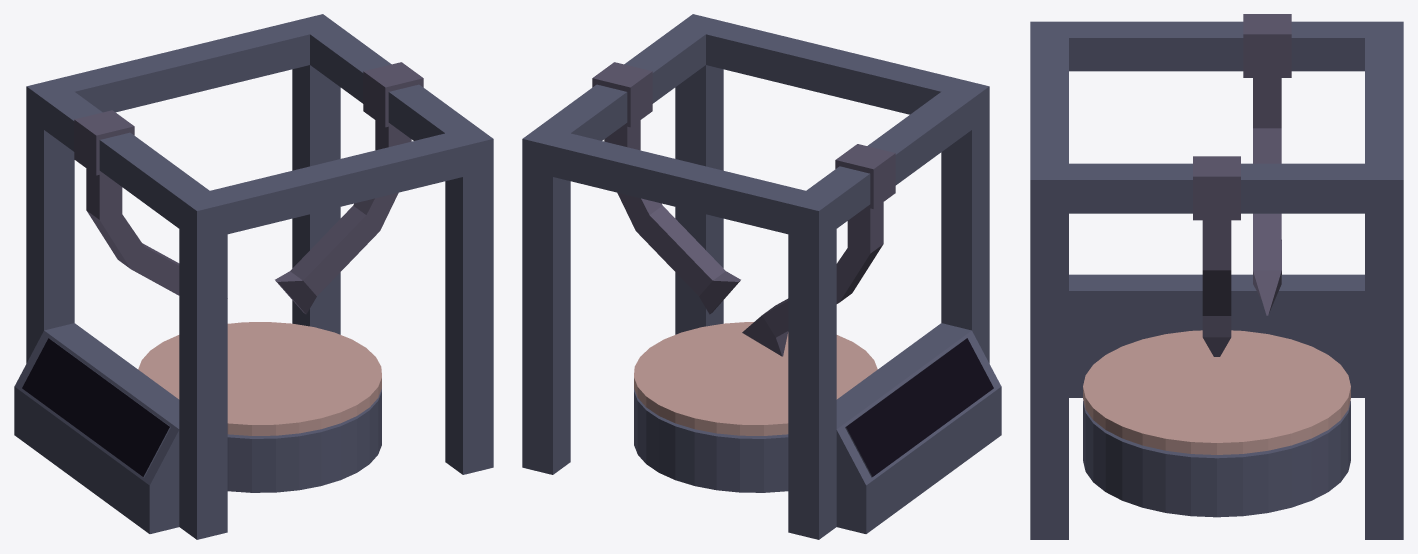
The model's file is Machine.fbx.
3 views of the same model, side by side, from view 1: azimuth 30°, elevation 25°; view 2: azimuth 150°, elevation 25°; view 3: azimuth 270°, elevation 25° (orthographic). The views are drawn at different scales.
Parts seen in each view (by area): view 1: Machine; view 2: Machine; view 3: Machine.
Part boxes in pixels (x1,y1,x2,y2): Machine: [14, 14, 493, 539]; Machine: [522, 14, 1001, 539]; Machine: [1030, 14, 1403, 539].
Bounding box in the file's own units: 312 × 301 × 279.
